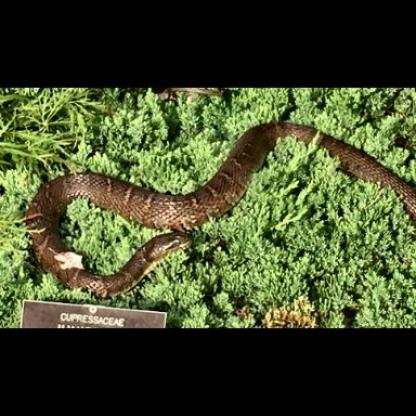Snake: (15, 118, 416, 322)
